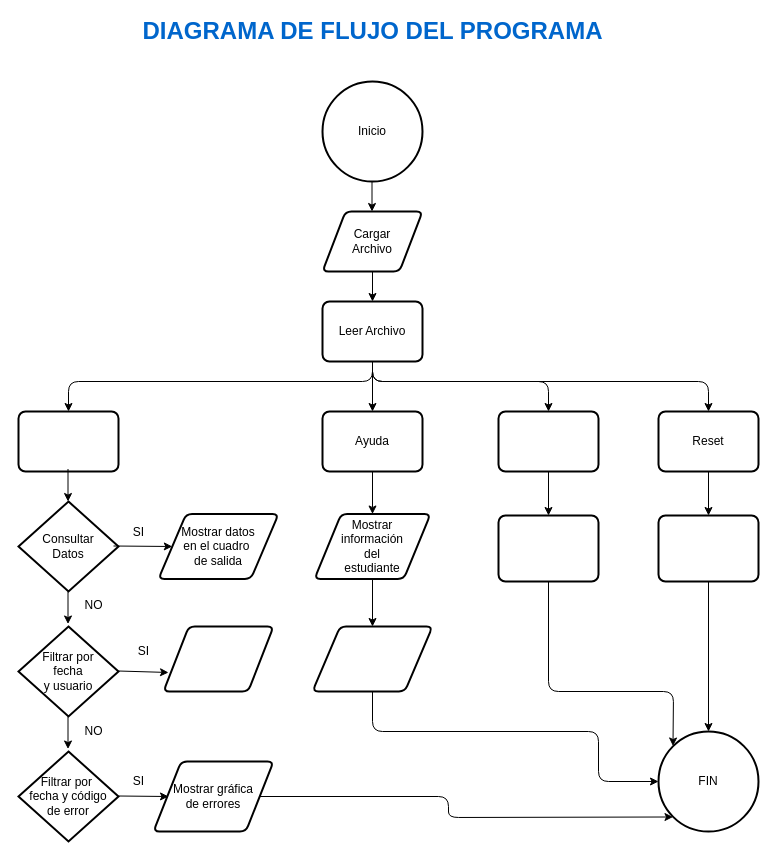
The diagram is 776 pixels wide and 860 high, and some of its shapes have lost their labels. The shapes that lost their labels are listed below. From the top down, each one's box as (x1, y1, x2, y2) in pixels, then its label:
(17, 410, 119, 472): Peticiones
(497, 410, 599, 472): Enviar
(497, 514, 599, 582): Enviar eventos a la API para su procesamiento
(657, 514, 759, 582): Devolver la API a su estado inicial
(162, 625, 274, 692): Mostrar gráfica de usuarios
(311, 625, 433, 692): Mostrar documentación
